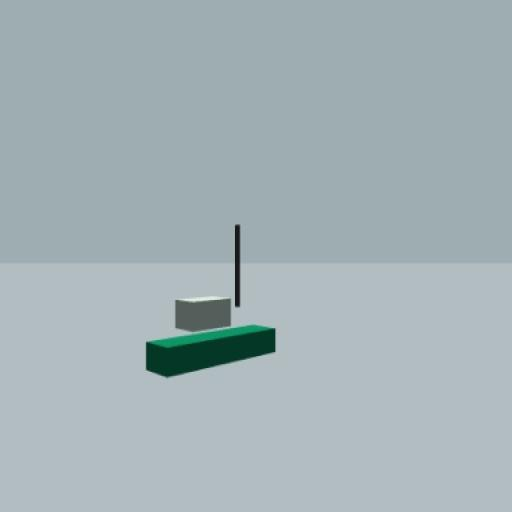fishing_boat: (144, 222, 278, 380)
